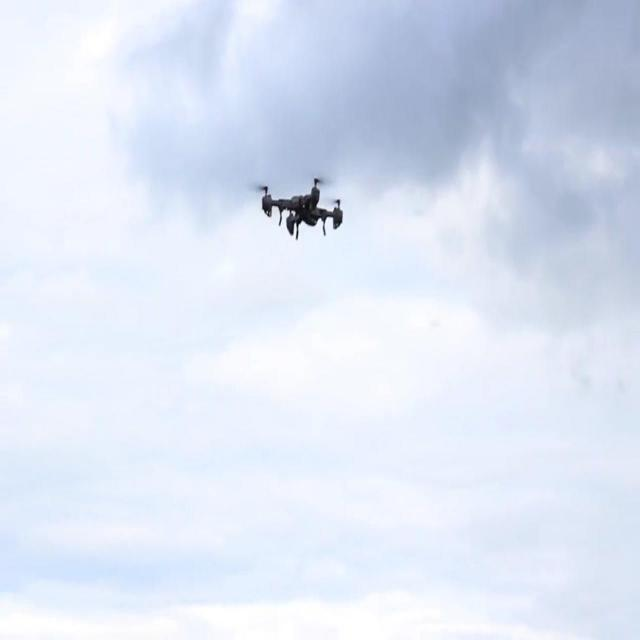UAV: (258, 176, 342, 243)
